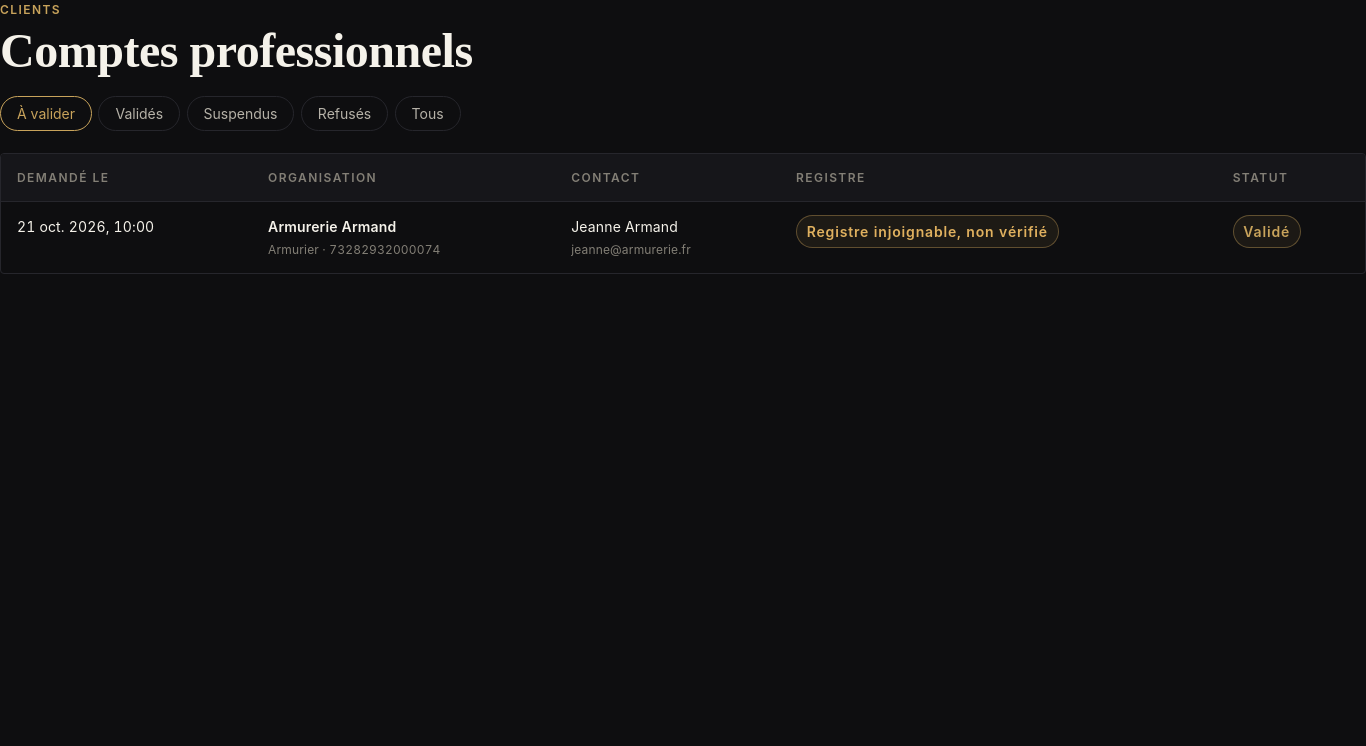
Test case: admin/organisations.vue (story 12.8b) › resets the member's authenticator app, after a confirmation
Click the row that starts with "21 oct. 2026, 10:00" at (86, 226), box 1,202 -> 1365,273
(page scrolled)
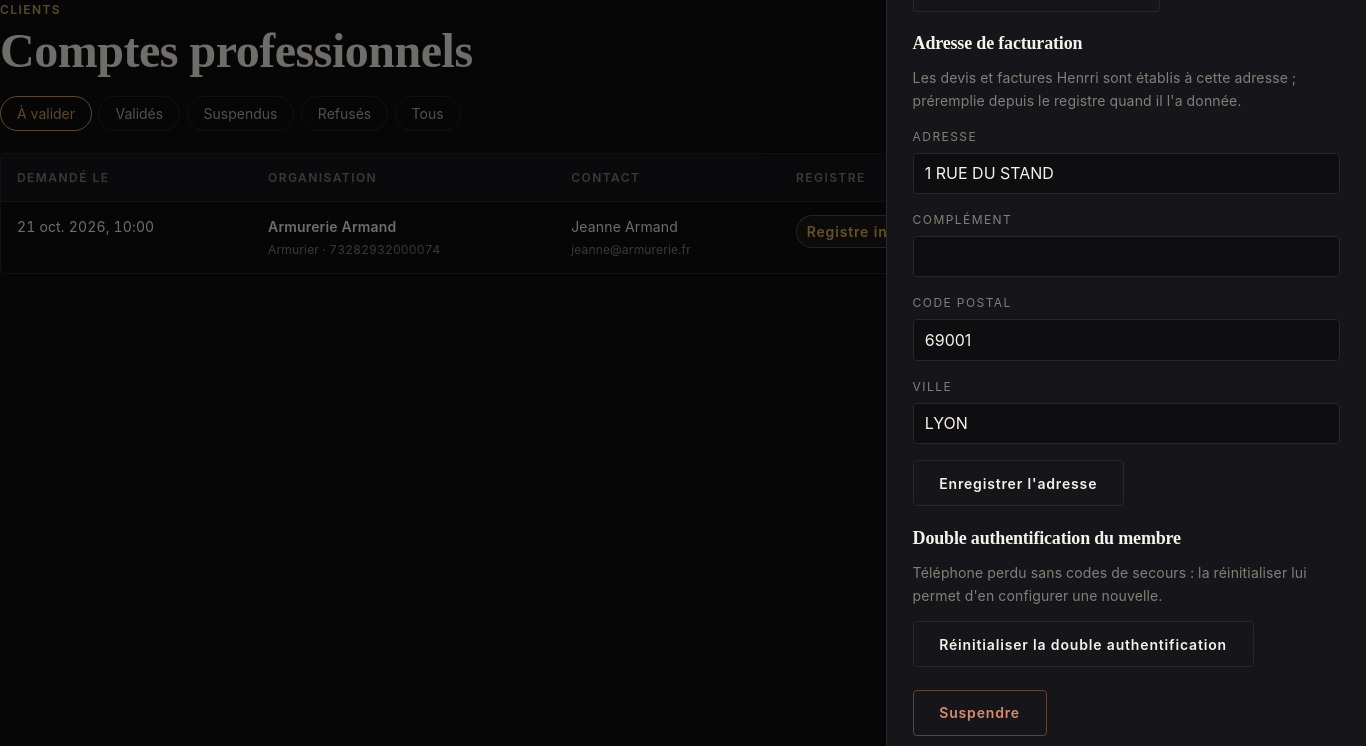
Click the button with class "reset-totp" at (1083, 644), box 913,621 -> 1254,667
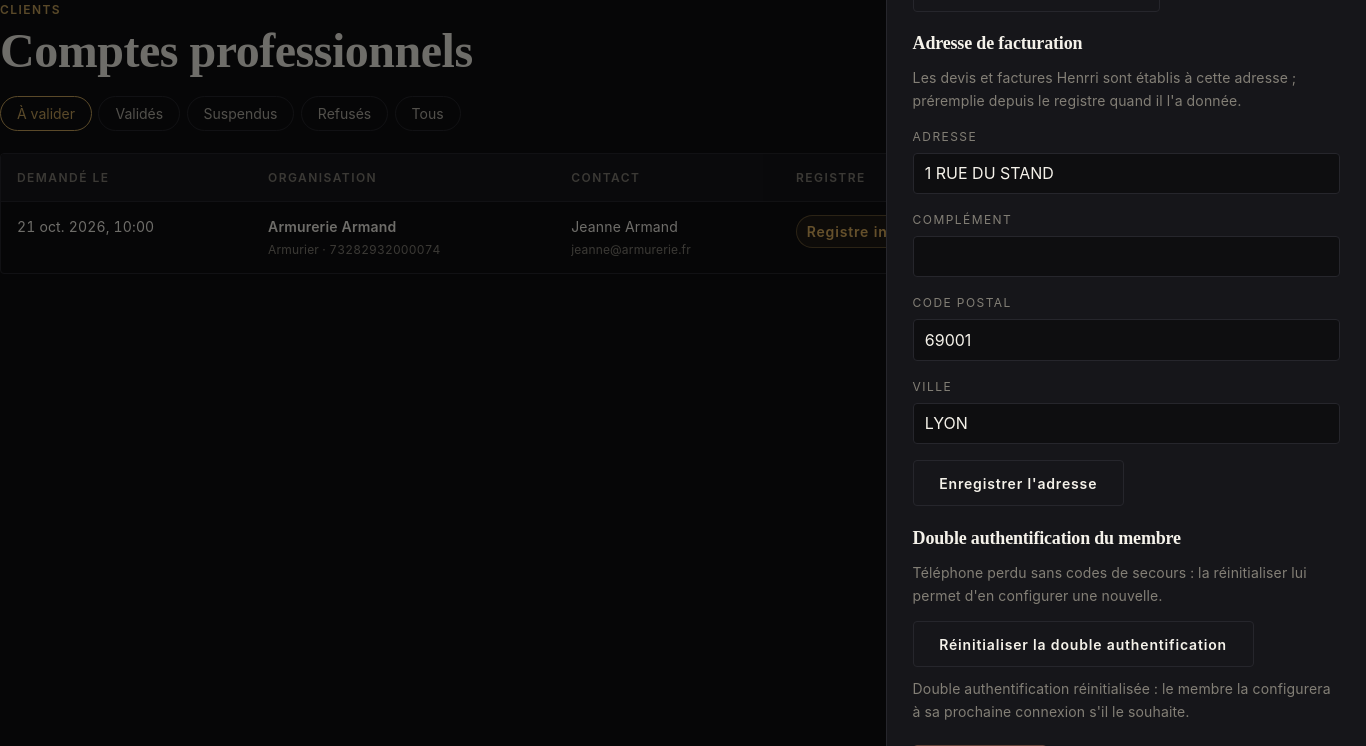
Check: the text "réinitialisée" is shown, box 913,680 -> 1331,720
